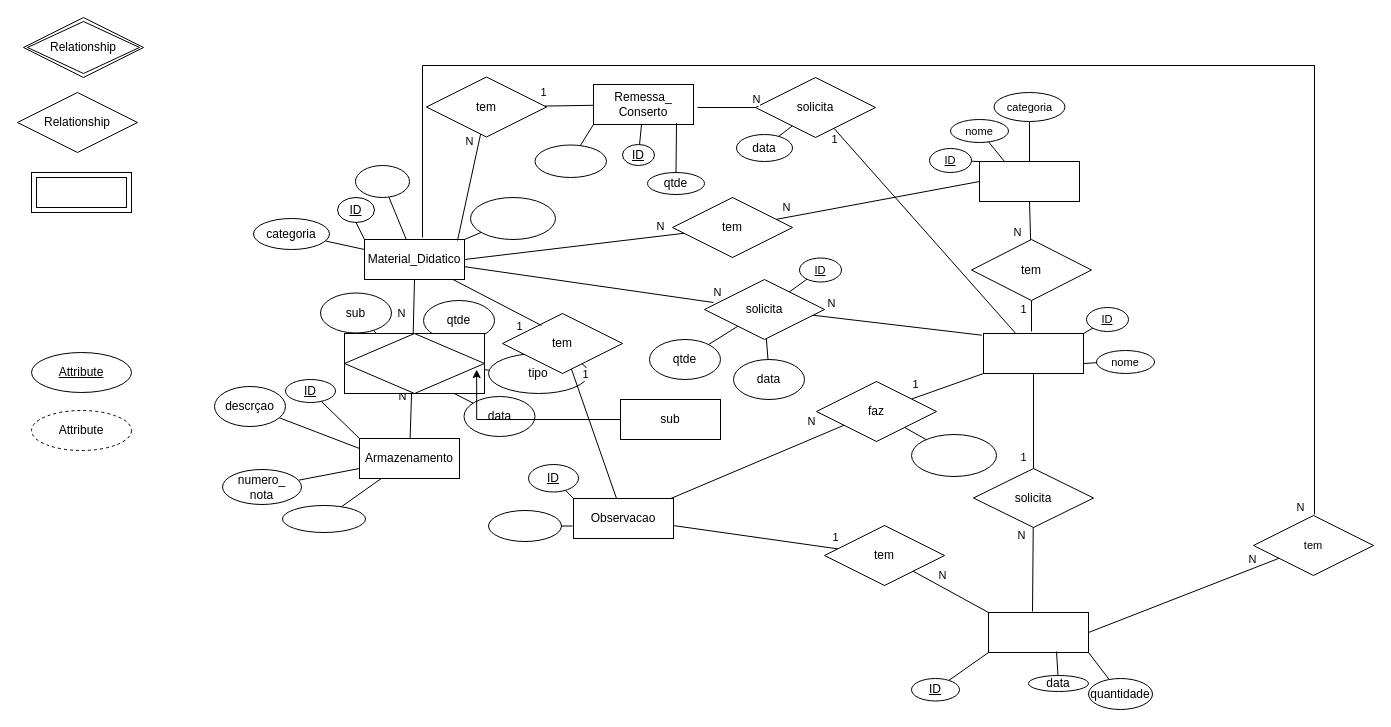
This 1391x727 diagram has some shape labels left out. The shapes that lost their labels are listed below. From the top down, each one's centre as x and y in pixels, then its label:
At [382,181]: "titulo".
At [570,161]: "nota_fiscal".
At [1029,181]: "Turma".
At [81,192]: "Entity".
At [513,218]: "data_ publicacao".
At [414,363]: "Associative Entity".
At [1033,353]: "Professor".
At [953,455]: "data_ observacao".
At [324,518]: "subdivisao".
At [525,526]: "descricao".
At [1038,632]: "Reprografia".
